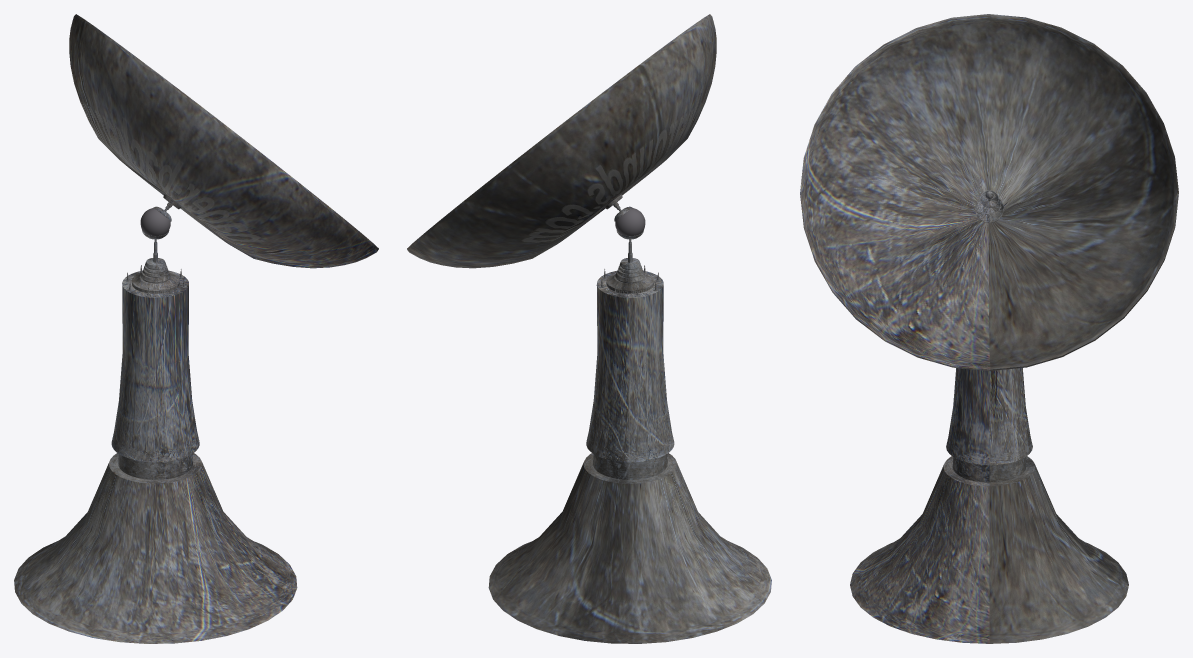
File: radar.glb
The picture shows the model from 3 angles, left to right: view 1: azimuth 30°, elevation 25°; view 2: azimuth 150°, elevation 25°; view 3: azimuth 270°, elevation 25°; orthographic projection.
Visible parts, largest first — view 1: revolvedSurface3, revolvedSurface2, revolvedSurface4, pSphere1; view 2: revolvedSurface3, revolvedSurface2, revolvedSurface4, pSphere1; view 3: revolvedSurface2, revolvedSurface3.
Part boxes in pixels (<box>): revolvedSurface3: <box>14,270,297,643</box>; revolvedSurface2: <box>69,14,378,268</box>; revolvedSurface4: <box>131,230,179,293</box>; pSphere1: <box>140,208,170,235</box>; revolvedSurface3: <box>488,270,771,643</box>; revolvedSurface2: <box>407,14,716,268</box>; revolvedSurface4: <box>606,230,654,293</box>; pSphere1: <box>615,208,645,235</box>; revolvedSurface2: <box>800,14,1178,370</box>; revolvedSurface3: <box>850,368,1128,643</box>.
Bounding box in the file's own units: 9.56 × 16.31 × 10.21.
1 material, 1 textured.
